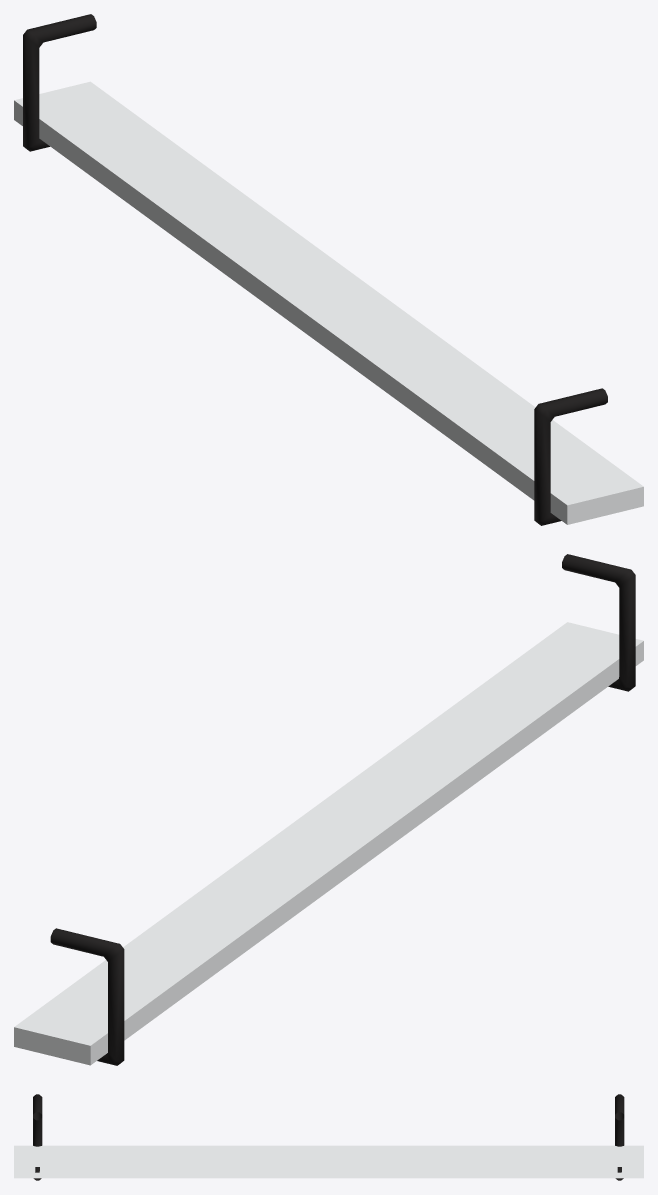
File: M_qiangshi01.FBX
The picture shows the model from 3 angles, top to bottom: view 1: azimuth 30°, elevation 25°; view 2: azimuth 150°, elevation 25°; view 3: azimuth 270°, elevation 25°; orthographic projection. The views are drawn at different scales.
Parts seen in each view (by area): view 1: M_qiangshi01; view 2: M_qiangshi01; view 3: M_qiangshi01.
Boxes of the visible parts, x1,y1,x2,y2 form: M_qiangshi01: (14, 14, 643, 525); M_qiangshi01: (14, 554, 643, 1065); M_qiangshi01: (14, 1094, 643, 1180).
Size of the model in its own units: 0.3762 by 0.4934 by 4.13.
